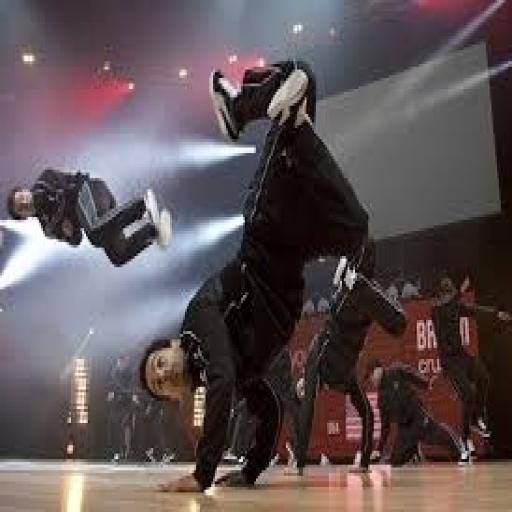dancing: (136, 56, 410, 495)
